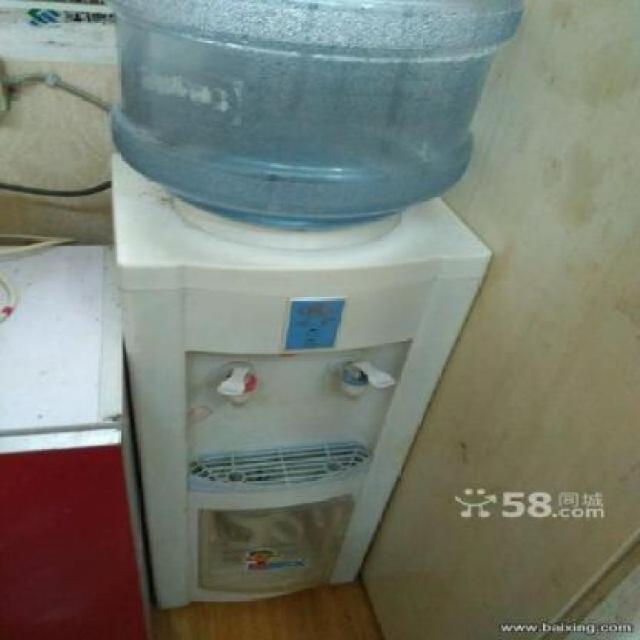coolerbottle: (100, 0, 529, 229)
